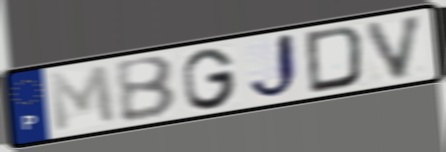B: (112, 53, 179, 125)
D: (303, 23, 367, 96)
G: (180, 46, 239, 112)
J: (245, 30, 302, 103)
M: (46, 63, 119, 135)
V: (362, 11, 428, 82)
